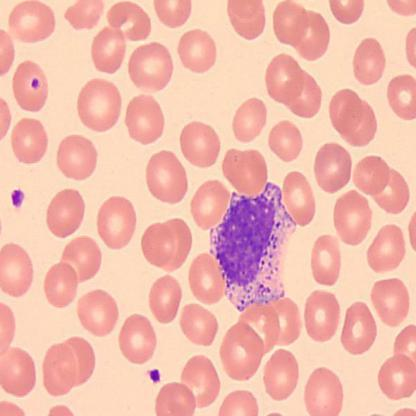Promyelocyte: (212, 181, 296, 308)
